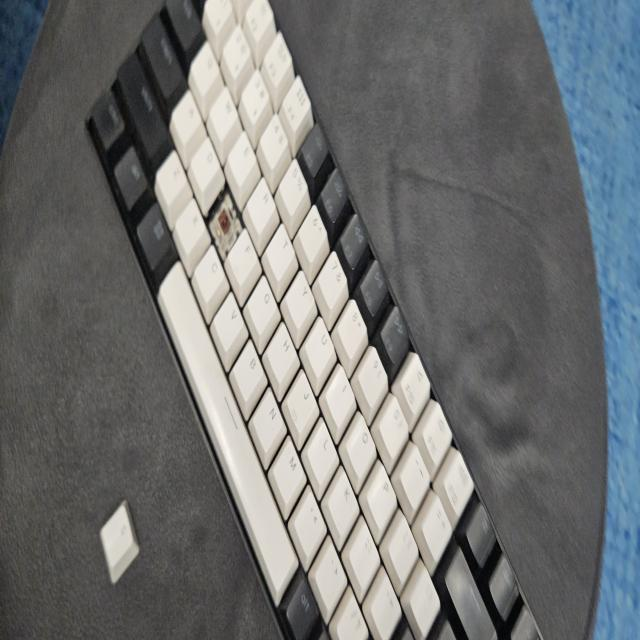C: (215, 202, 234, 237)
